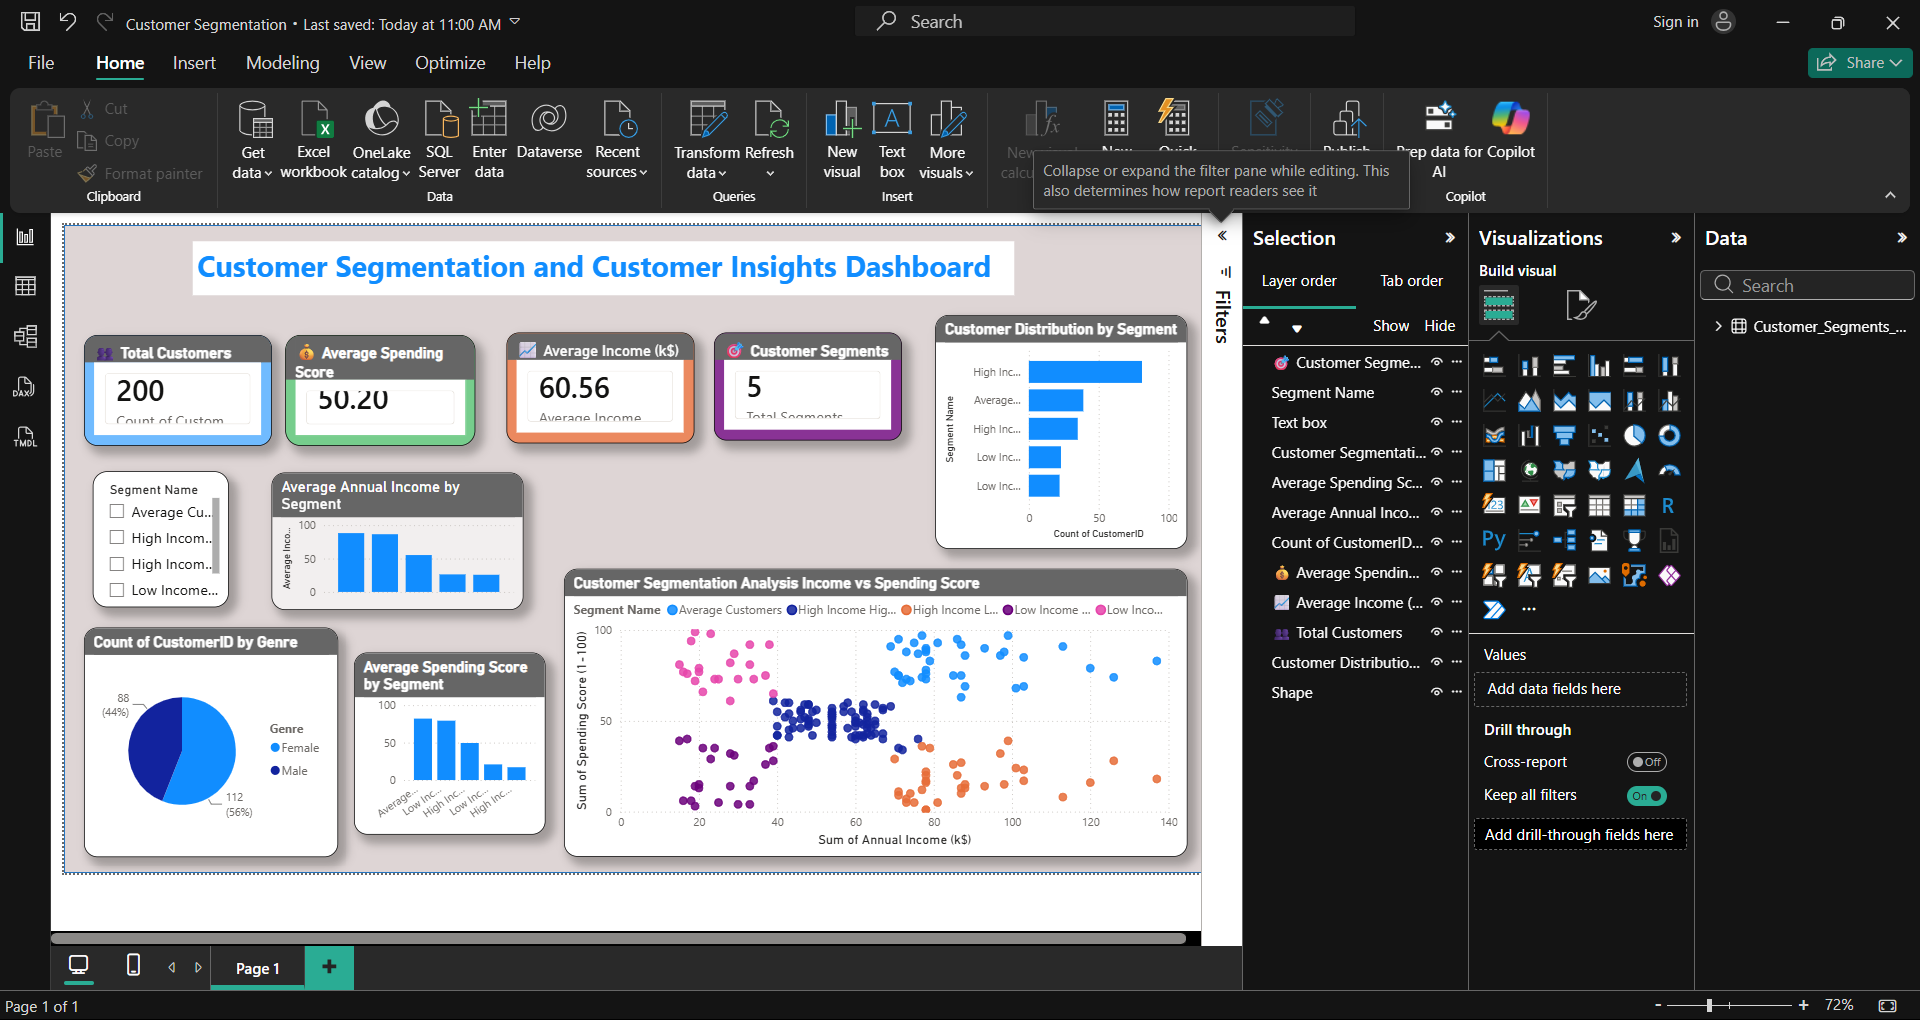

The page's visual inventory and layout, read from the dashboard file:
{"tool":"powerbi","page":{"name":"Page 1","canvas":[1280,720],"ordinal":0},"visuals":[{"type":"clusteredBarChart","fields":{"Category":["Customer_Segments_Output.Segment Name"],"Y":["CountNonNull(Customer_Segments_Output.CustomerID)"]},"box":[986.7,103.3,280,280],"z":0},{"type":"cardVisual","fields":{"Data":["CountNonNull(Customer_Segments_Output.CustomerID)"]},"box":[23.3,103.3,206.7,133.3],"z":1000},{"type":"cardVisual","fields":{"Data":["Customer_Segments_Output.Average Income"]},"box":[526.7,96.7,206.7,150],"z":2000},{"type":"cardVisual","fields":{"Data":["Customer_Segments_Output.Average Spending"]},"box":[280,96.7,210,146.7],"z":3000},{"type":"pieChart","fields":{"Category":["Customer_Segments_Output.Genre"],"Y":["CountNonNull(Customer_Segments_Output.CustomerID)"]},"box":[0,438.6,281.4,281.4],"z":4000},{"type":"clusteredColumnChart","fields":{"Category":["Customer_Segments_Output.Segment Name"],"Y":["Customer_Segments_Output.Average Income"]},"box":[246.7,270,280,153.3],"z":5000},{"type":"clusteredColumnChart","fields":{"Category":["Customer_Segments_Output.Segment Name"],"Y":["Customer_Segments_Output.Average Spending"]},"box":[280,480,210,203.3],"z":6000},{"type":"scatterChart","fields":{"X":["Sum(Customer_Segments_Output.Annual Income (k$))"],"Y":["Sum(Customer_Segments_Output.Spending Score (1-100))"],"Series":["Customer_Segments_Output.Segment Name"],"Category":["Customer_Segments_Output.CustomerID"]},"box":[526.7,383.3,740,320],"z":7000},{"type":"textbox","box":[182.7,0,1082.7,107.7],"z":7001},{"type":"slicer","fields":{"Values":["Customer_Segments_Output.Segment Name"]},"box":[23.3,266.7,150,150],"z":7002},{"type":"cardVisual","fields":{"Data":["Customer_Segments_Output.Total Segments"]},"box":[796.7,113.3,150,116.7],"z":7003}]}

Visuals, with their boxes on the page's 1280x720 design canvas (x1, y1, x2, y2). These are canvas units, not pixel positions in the 1920x1020 screenshot, which may show the page scaled, cropped or inside an application window:
clusteredBarChart - Customer_Segments_Output.Segment Name x CountNonNull(Customer_Segments_Output.CustomerID): <region>987, 103, 1267, 383</region>
cardVisual - CountNonNull(Customer_Segments_Output.CustomerID): <region>23, 103, 230, 237</region>
cardVisual - Customer_Segments_Output.Average Income: <region>527, 97, 733, 247</region>
cardVisual - Customer_Segments_Output.Average Spending: <region>280, 97, 490, 243</region>
pieChart - Customer_Segments_Output.Genre x CountNonNull(Customer_Segments_Output.CustomerID): <region>0, 439, 281, 720</region>
clusteredColumnChart - Customer_Segments_Output.Segment Name x Customer_Segments_Output.Average Income: <region>247, 270, 527, 423</region>
clusteredColumnChart - Customer_Segments_Output.Segment Name x Customer_Segments_Output.Average Spending: <region>280, 480, 490, 683</region>
scatterChart - Sum(Customer_Segments_Output.Annual Income (k$)) x Sum(Customer_Segments_Output.Spending Score (1-100)): <region>527, 383, 1267, 703</region>
textbox: <region>183, 0, 1265, 108</region>
slicer - Customer_Segments_Output.Segment Name: <region>23, 267, 173, 417</region>
cardVisual - Customer_Segments_Output.Total Segments: <region>797, 113, 947, 230</region>
